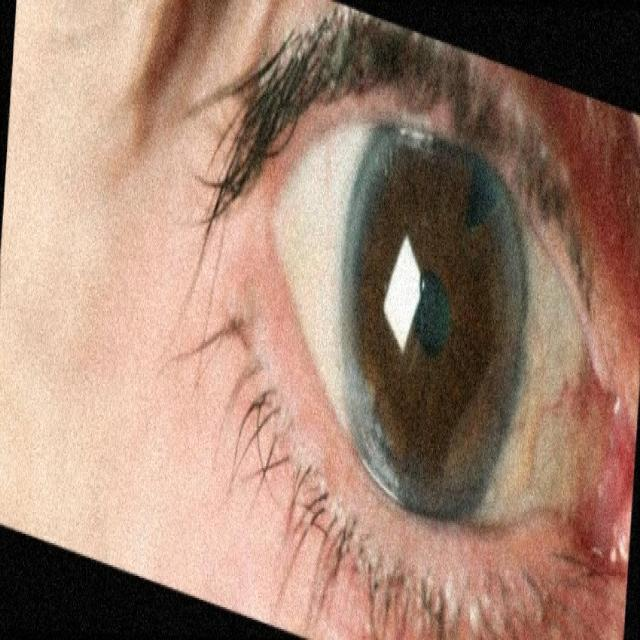Cataract: (304, 77, 560, 574)
